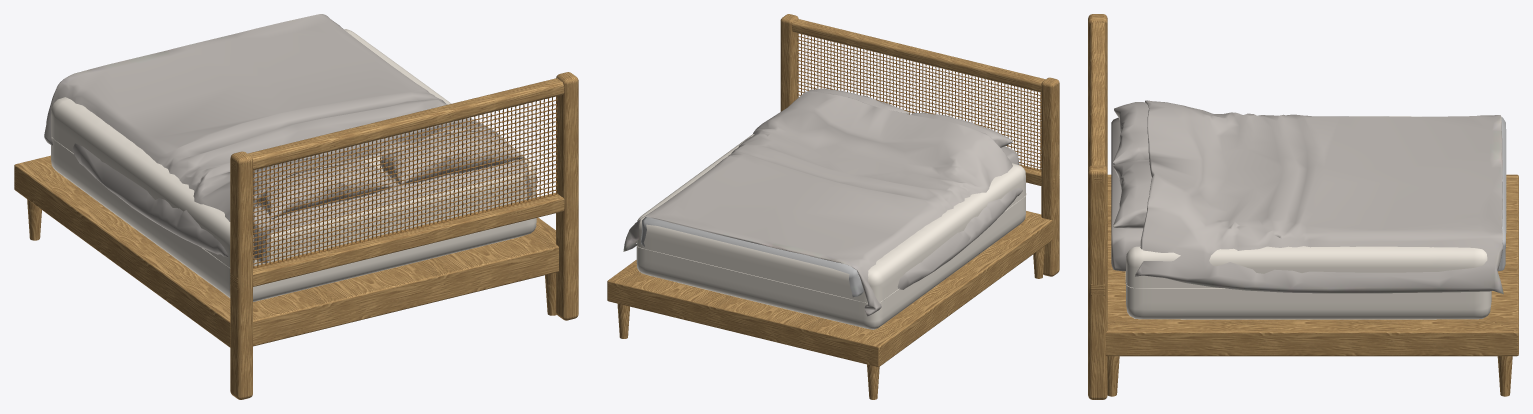
The model's file is residential-woven-bed.glb.
3 renders of one model, left to right at view 1: azimuth 30°, elevation 25°; view 2: azimuth 150°, elevation 25°; view 3: azimuth 270°, elevation 25°, orthographic. The views are drawn at different scales.
Visible parts, largest first — view 1: heritage_linen_surfaces, oak_surfaces, ivory_surfaces, cane_surfaces; view 2: heritage_linen_surfaces, oak_surfaces, ivory_surfaces, cane_surfaces; view 3: heritage_linen_surfaces, oak_surfaces, ivory_surfaces.
Part boxes in pixels (<box>): heritage_linen_surfaces: <box>44,14,537,262</box>; oak_surfaces: <box>14,72,578,399</box>; ivory_surfaces: <box>51,29,536,301</box>; cane_surfaces: <box>253,96,557,268</box>; heritage_linen_surfaces: <box>623,88,1022,316</box>; oak_surfaces: <box>607,14,1059,399</box>; ivory_surfaces: <box>636,134,1026,329</box>; cane_surfaces: <box>797,33,1041,171</box>; heritage_linen_surfaces: <box>1111,100,1506,294</box>; oak_surfaces: <box>1088,14,1518,399</box>; ivory_surfaces: <box>1125,116,1491,319</box>.
Size of the model in its own units: 1.92 by 1.3 by 2.2.
4 materials, 3 textured.
